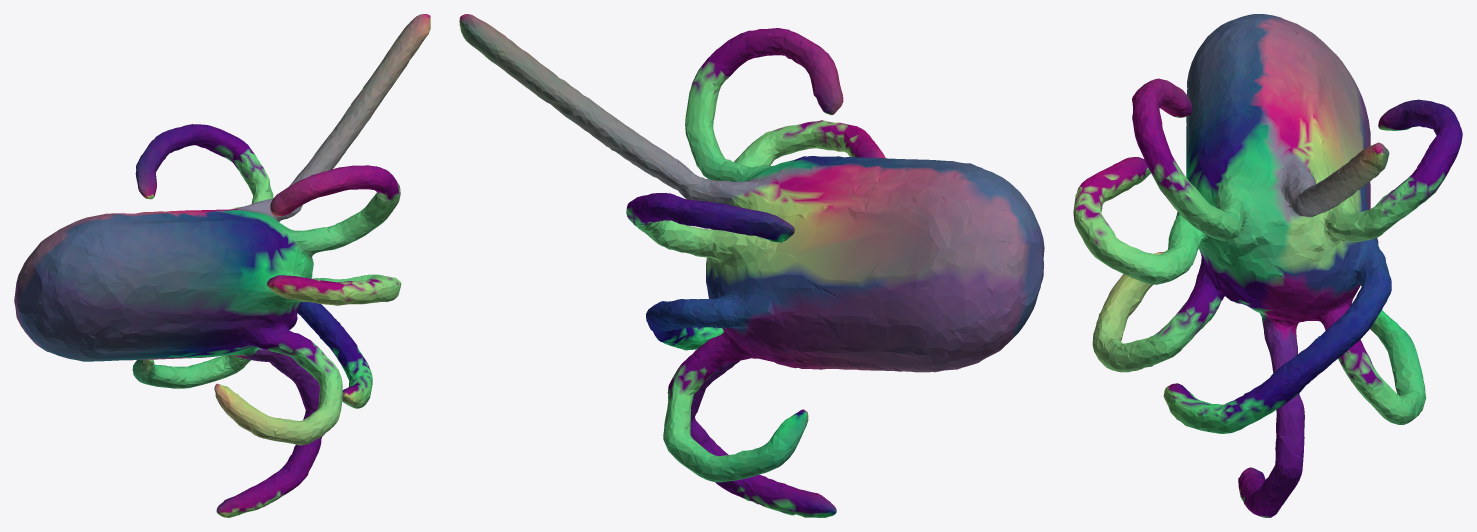
Rendered from octopus-20.off.obj.
3 renders of one model, left to right at view 1: azimuth 30°, elevation 25°; view 2: azimuth 150°, elevation 25°; view 3: azimuth 270°, elevation 25°, orthographic. The views are drawn at different scales.
Size of the model in its own units: 1.27 by 1.11 by 0.7944.
